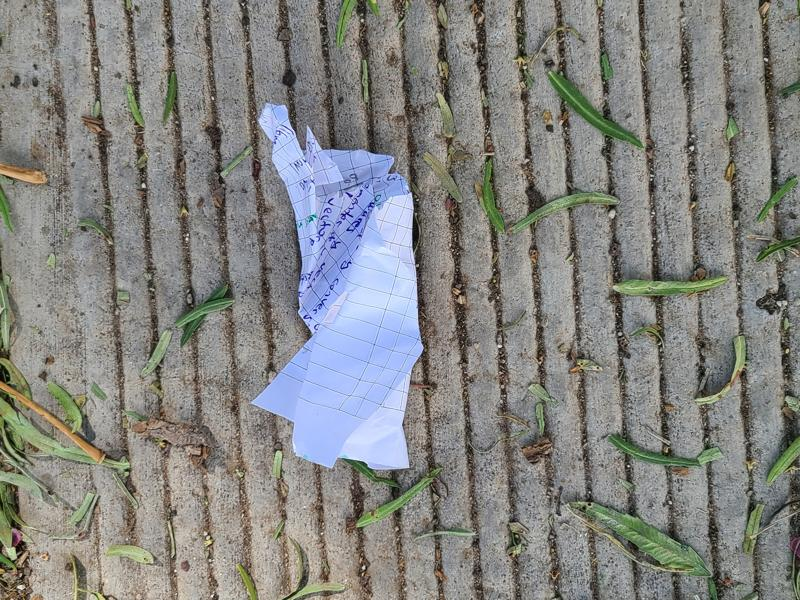papel: (252, 105, 424, 474)
